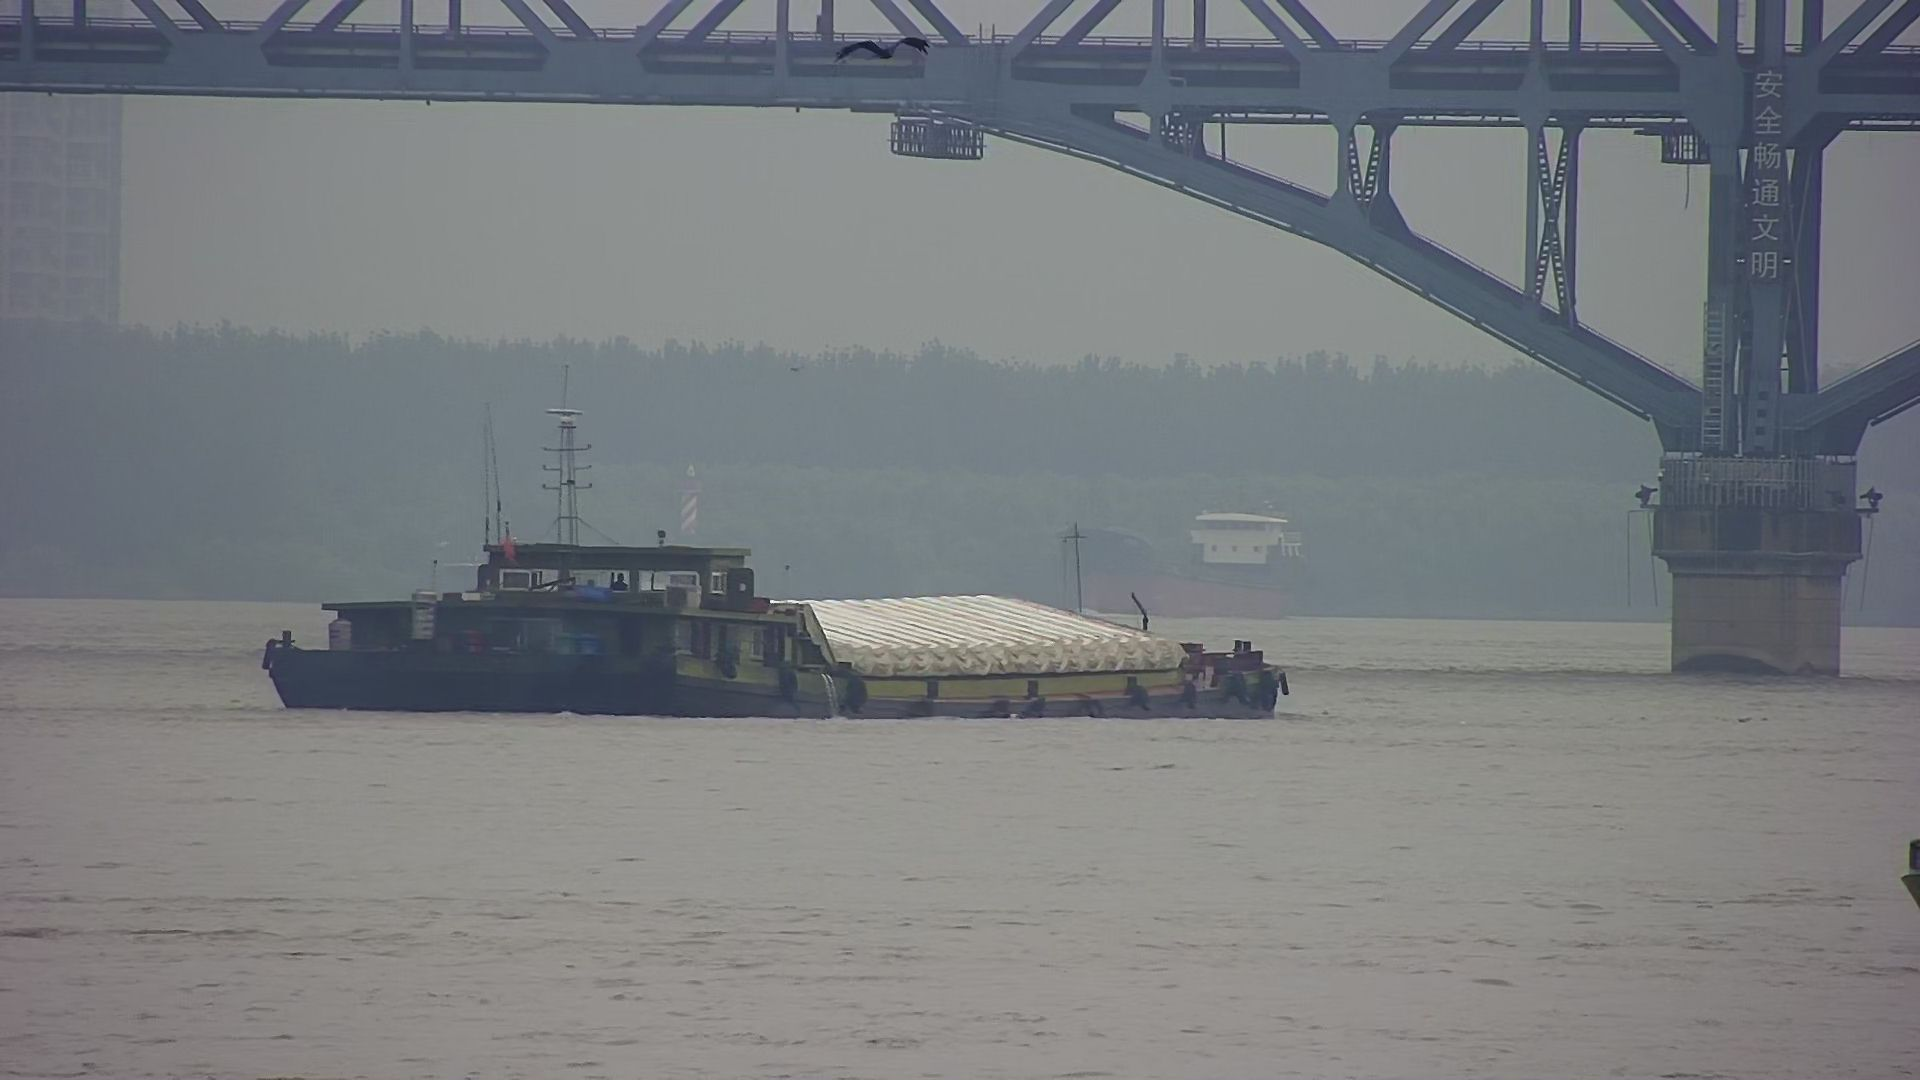bridge: (1, 1, 1905, 687)
ship: (251, 393, 1307, 727), (1027, 476, 1340, 622)
